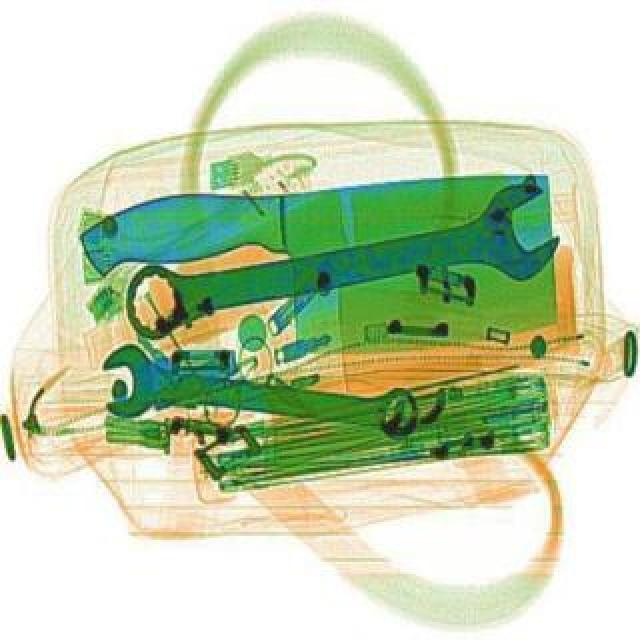knife: (74, 172, 558, 364)
scissors: (112, 174, 568, 352), (94, 338, 422, 454)
